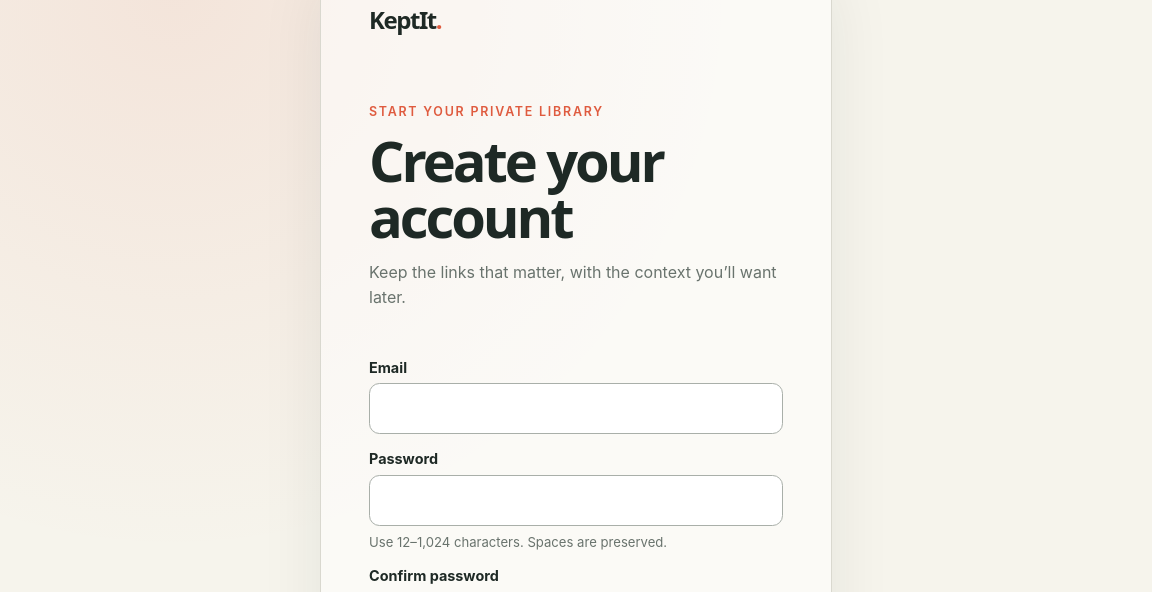
it: frontend authentication › shows the duplicate-registration error safely
Type "person@example.com" into the field labelled "Email" at (576, 409), box [369,383,783,434]
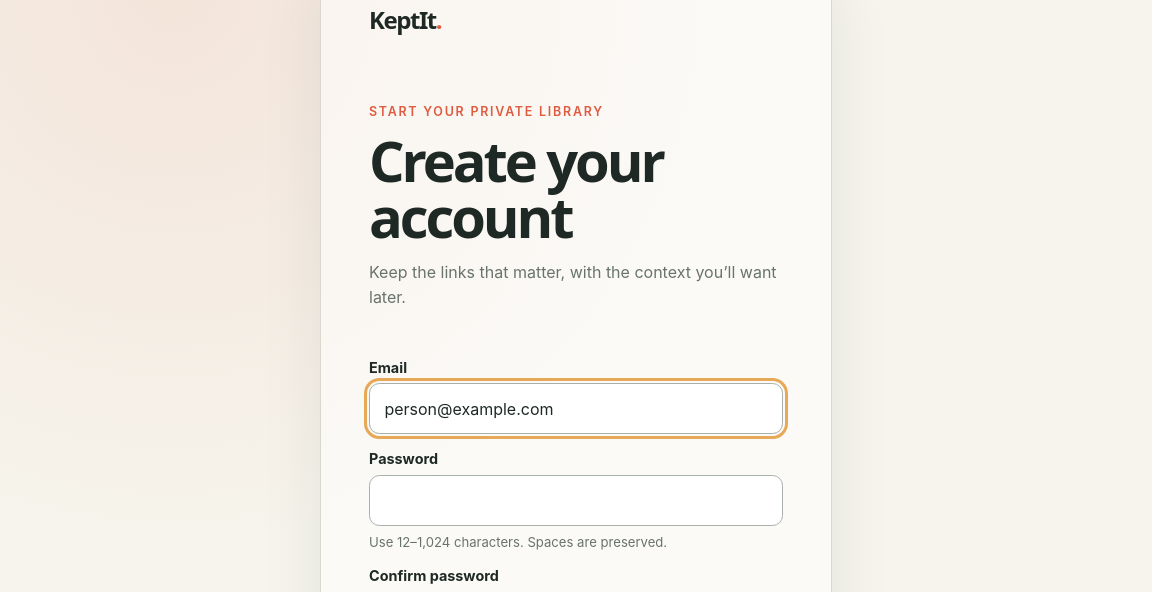
Type "valid password" into the password field labelled "Password" at (576, 500), box [369,475,783,526]
(page scrolled)
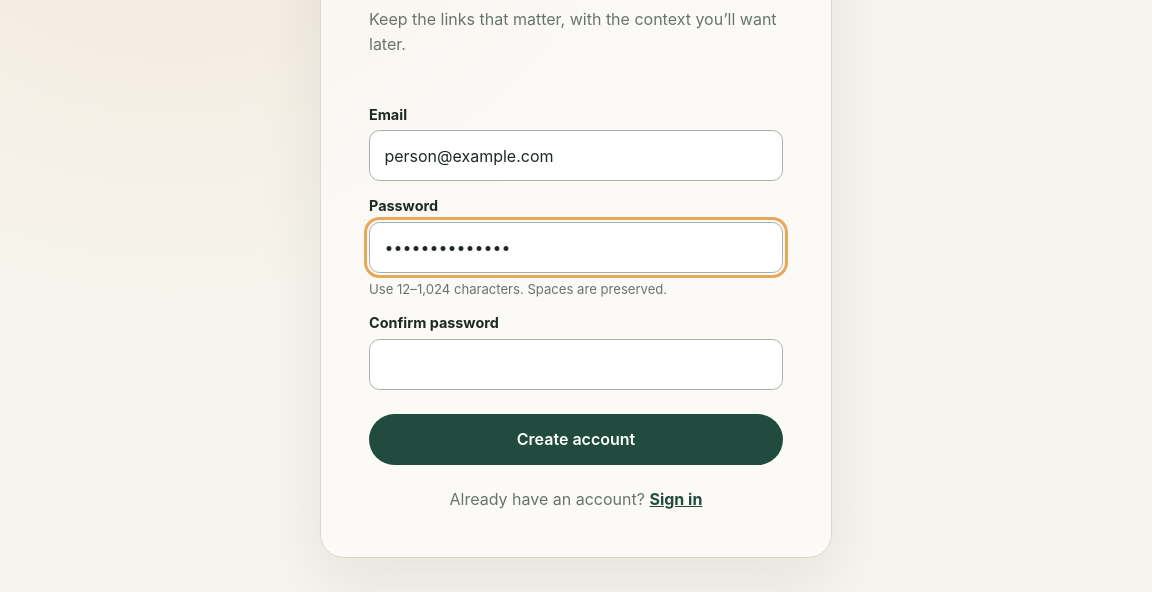
Type "valid password" into the password field labelled "Confirm password" at (576, 364), box [369,338,783,390]
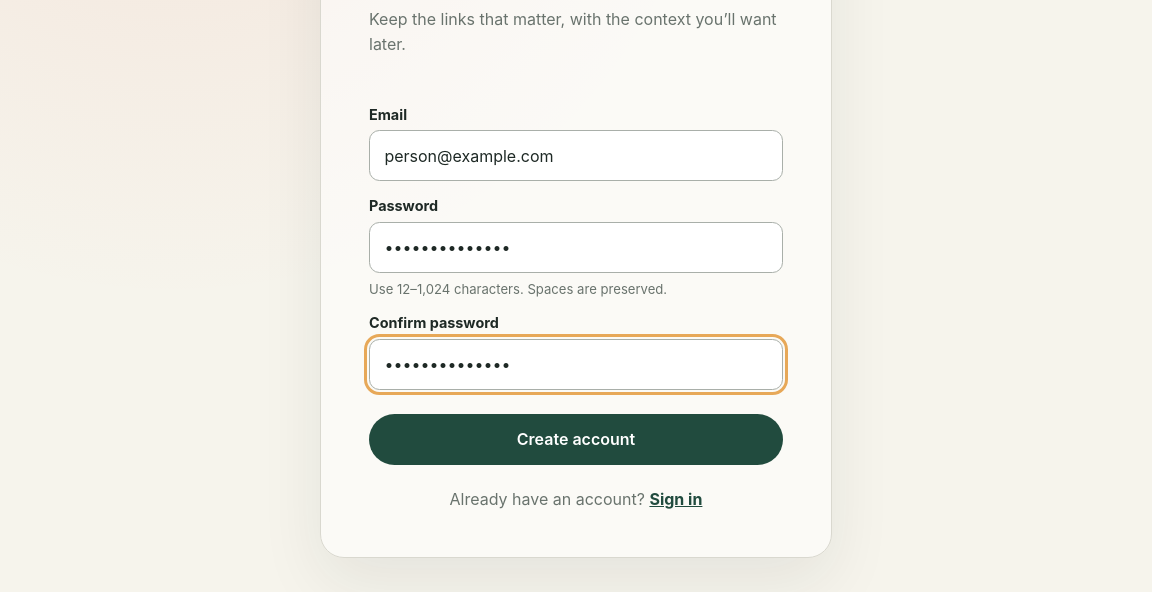
Click the button "Create account" at (576, 439), box [369,414,783,465]
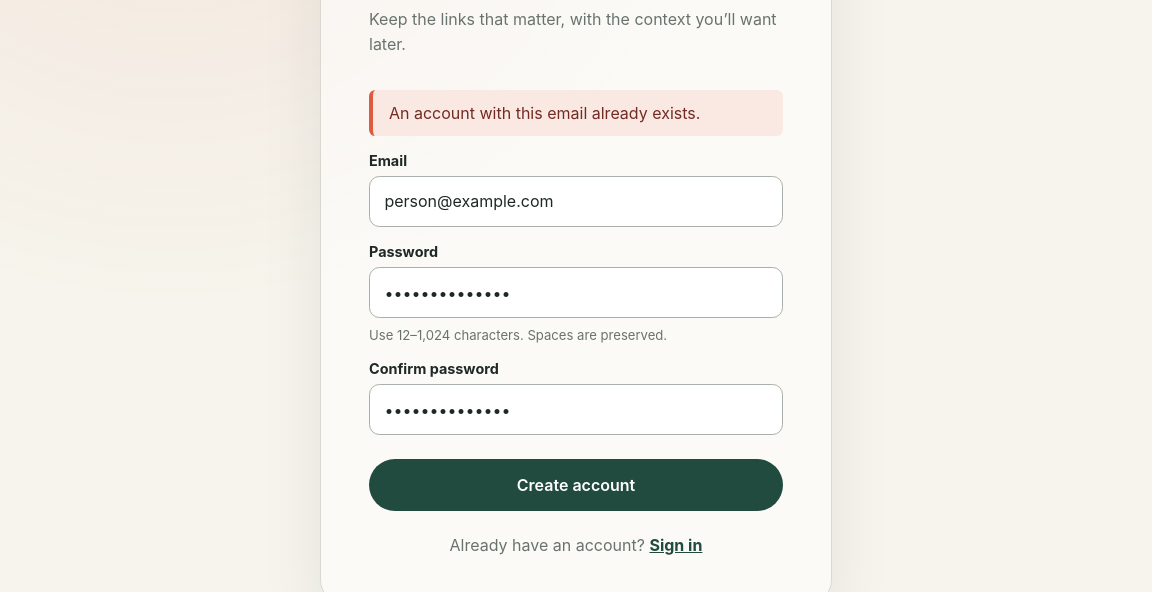
expect the message reads "An account with this email already exists.": met, box [389,103,700,123]
